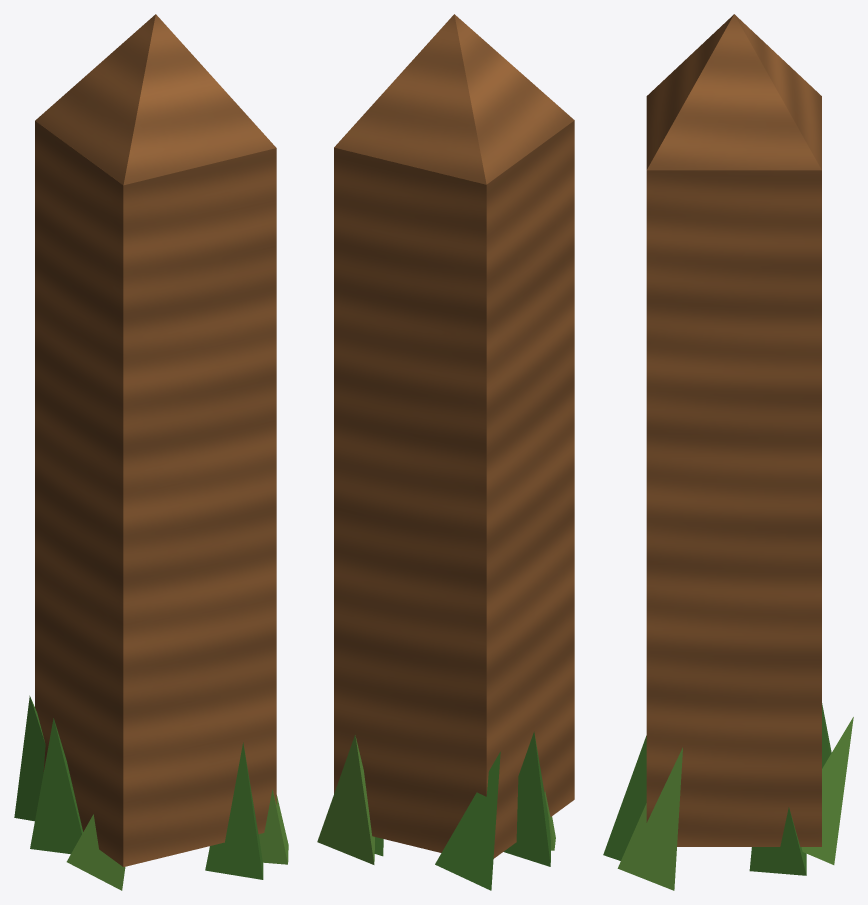
The model's file is Fence_Post.fbx.
The picture shows the model from 3 angles, left to right: view 1: azimuth 30°, elevation 25°; view 2: azimuth 150°, elevation 25°; view 3: azimuth 270°, elevation 25°; orthographic projection.
Parts seen in each view (by area): view 1: Fence_Post; view 2: Fence_Post; view 3: Fence_Post.
Boxes of the visible parts, bbox=[...] form: Fence_Post: bbox=[14, 14, 288, 890]; Fence_Post: bbox=[317, 14, 574, 890]; Fence_Post: bbox=[603, 14, 853, 890].
Size of the model in its own units: 0.2233 by 0.8332 by 0.2284.
Materials: 1 (1 with a texture image).
